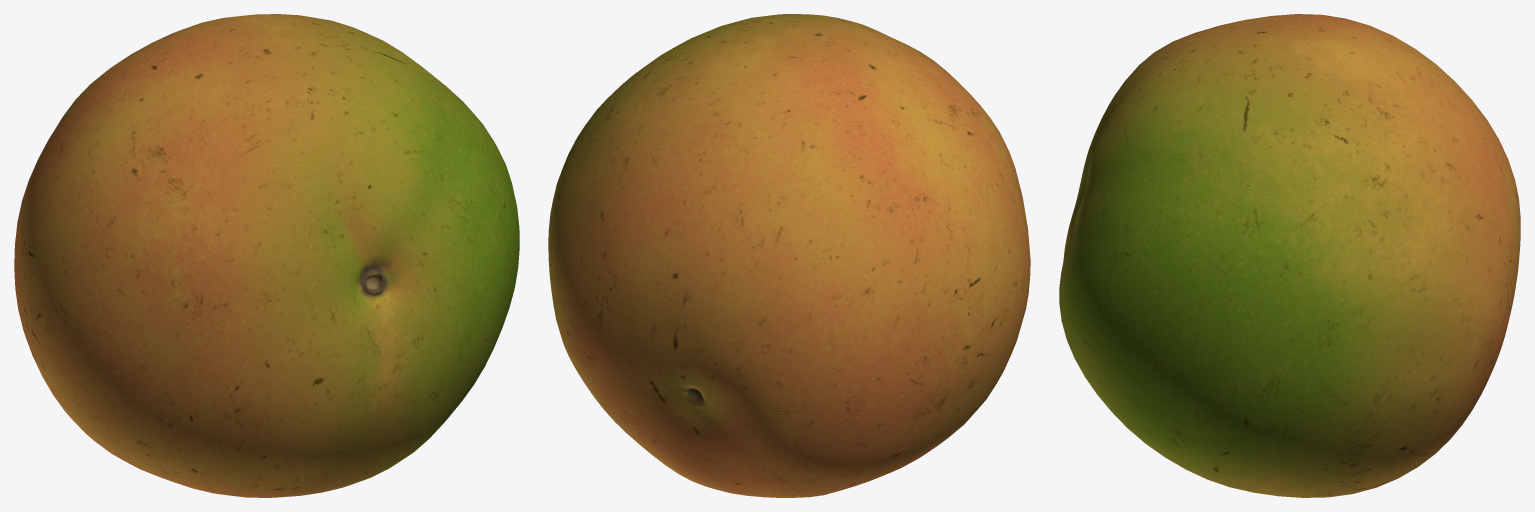
Rendered from orange.glb.
The picture shows the model from 3 angles, left to right: view 1: azimuth 30°, elevation 25°; view 2: azimuth 150°, elevation 25°; view 3: azimuth 270°, elevation 25°; orthographic projection. The views are drawn at different scales.
Visible parts, largest first — view 1: Orange; view 2: Orange; view 3: Orange.
Boxes of the visible parts, x1,y1,x2,y2 form: Orange: (14,14,519,497); Orange: (548,14,1030,497); Orange: (1059,14,1520,497).
Size of the model in its own units: 0.0804 by 0.0779 by 0.0746.
1 material, 1 textured.
